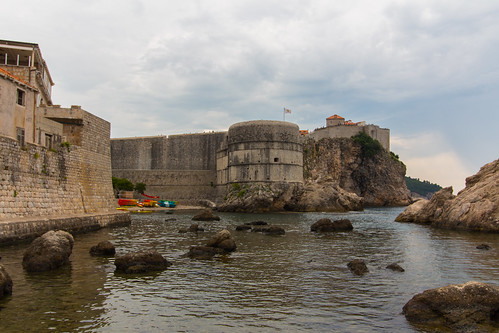building: (110, 108, 396, 206), (1, 48, 130, 227)
rocks: (1, 206, 356, 306)
sea: (1, 202, 482, 333)
sky: (59, 1, 499, 105)
